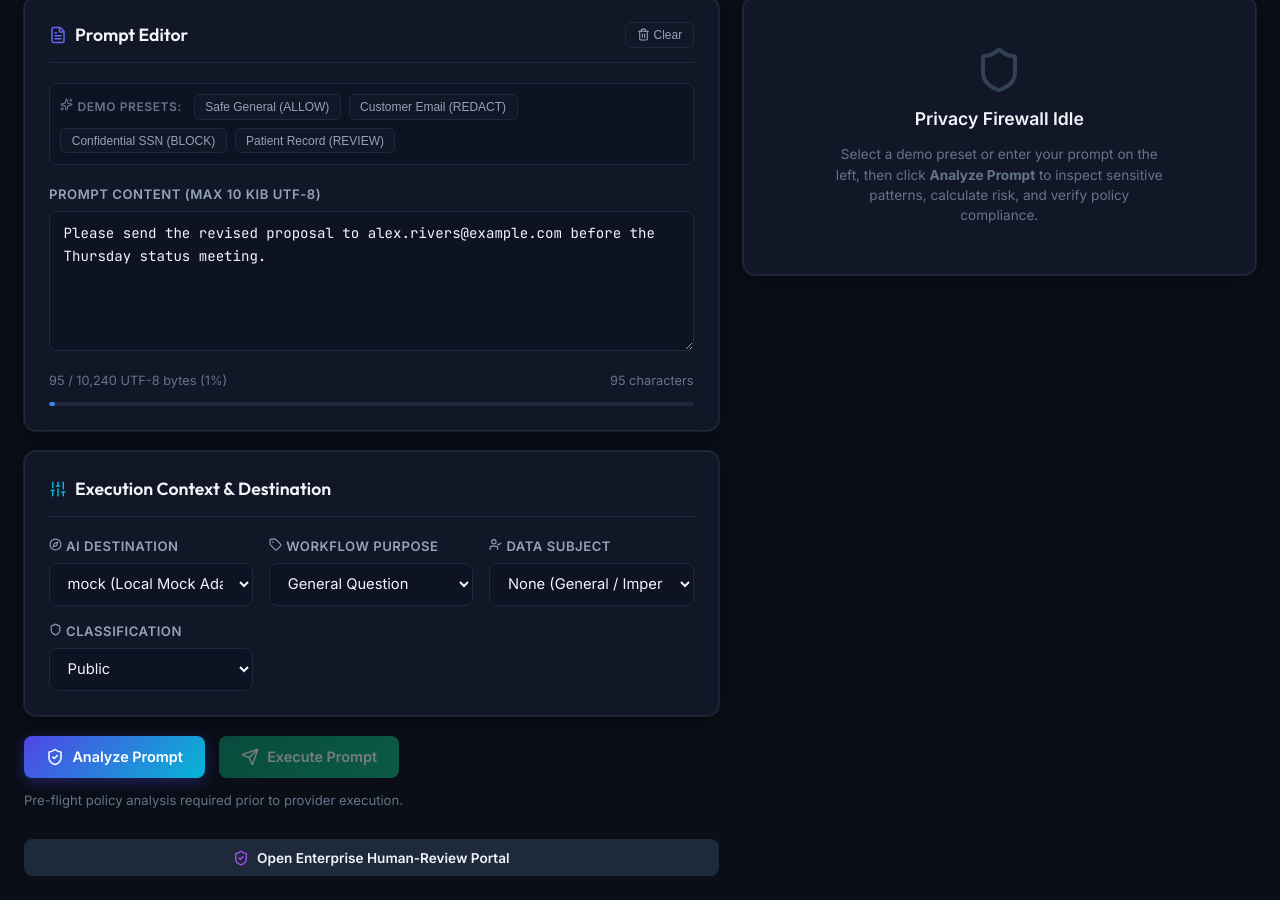
Scenario: PrivAI App Integration › invalidates analysis when prompt is edited after analysis (Anti-Bypass Invariant)
This screenshot has width=1280, height=900.
(page scrolled)
Analyze prompt
Click the button "Analyze Prompt". click: (115, 757)
box: left=24, top=736, right=205, bottom=778
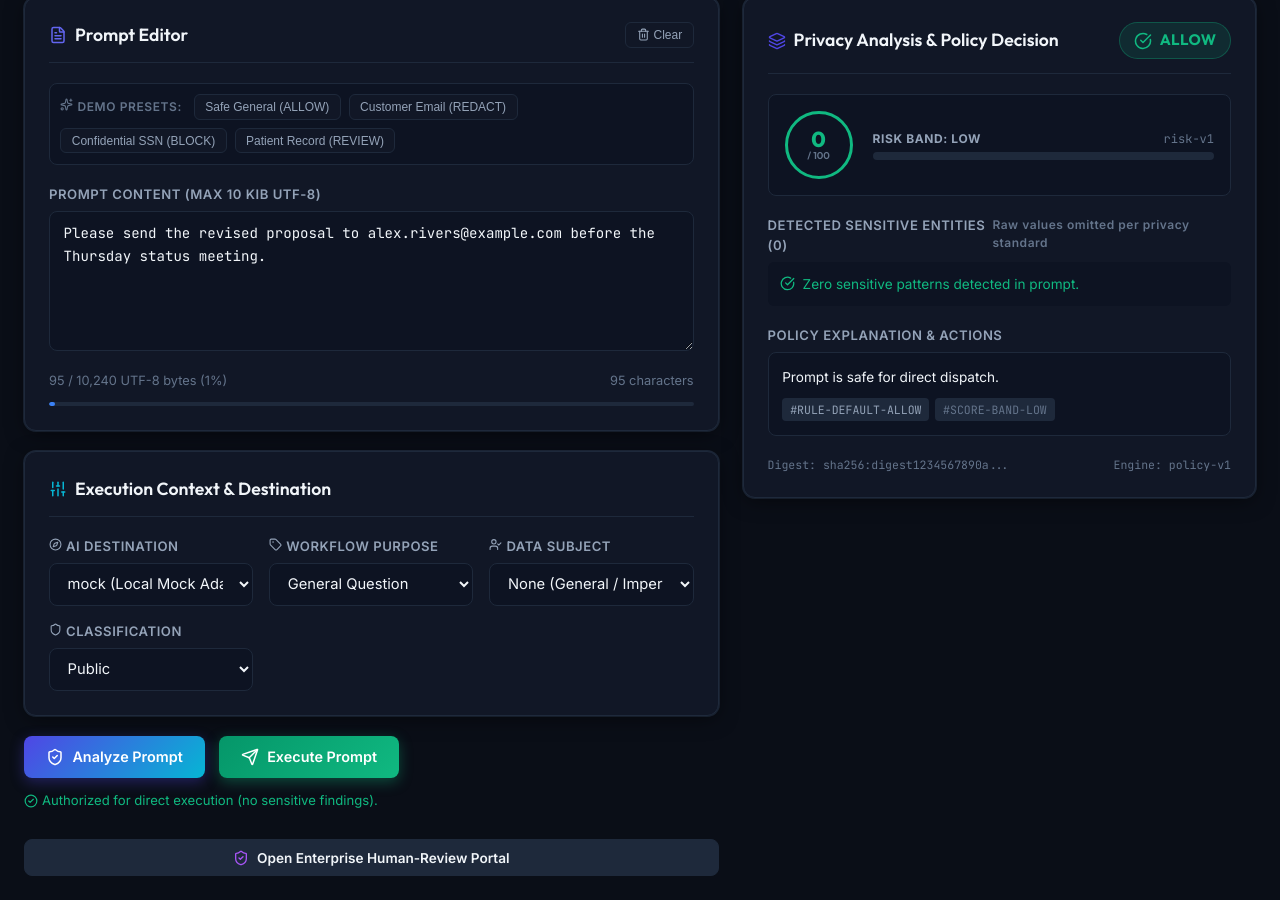
expect the text "ALLOW" is shown: met, box left=1160, top=29, right=1216, bottom=52
expect the button "Execute Prompt" is enabled: met, box left=219, top=736, right=399, bottom=778
User edits prompt content
Type " additional text" into the text box labelled "Prompt Content (Max 10 KiB UTF-8)". click: (371, 281)
box: left=49, top=211, right=694, bottom=351
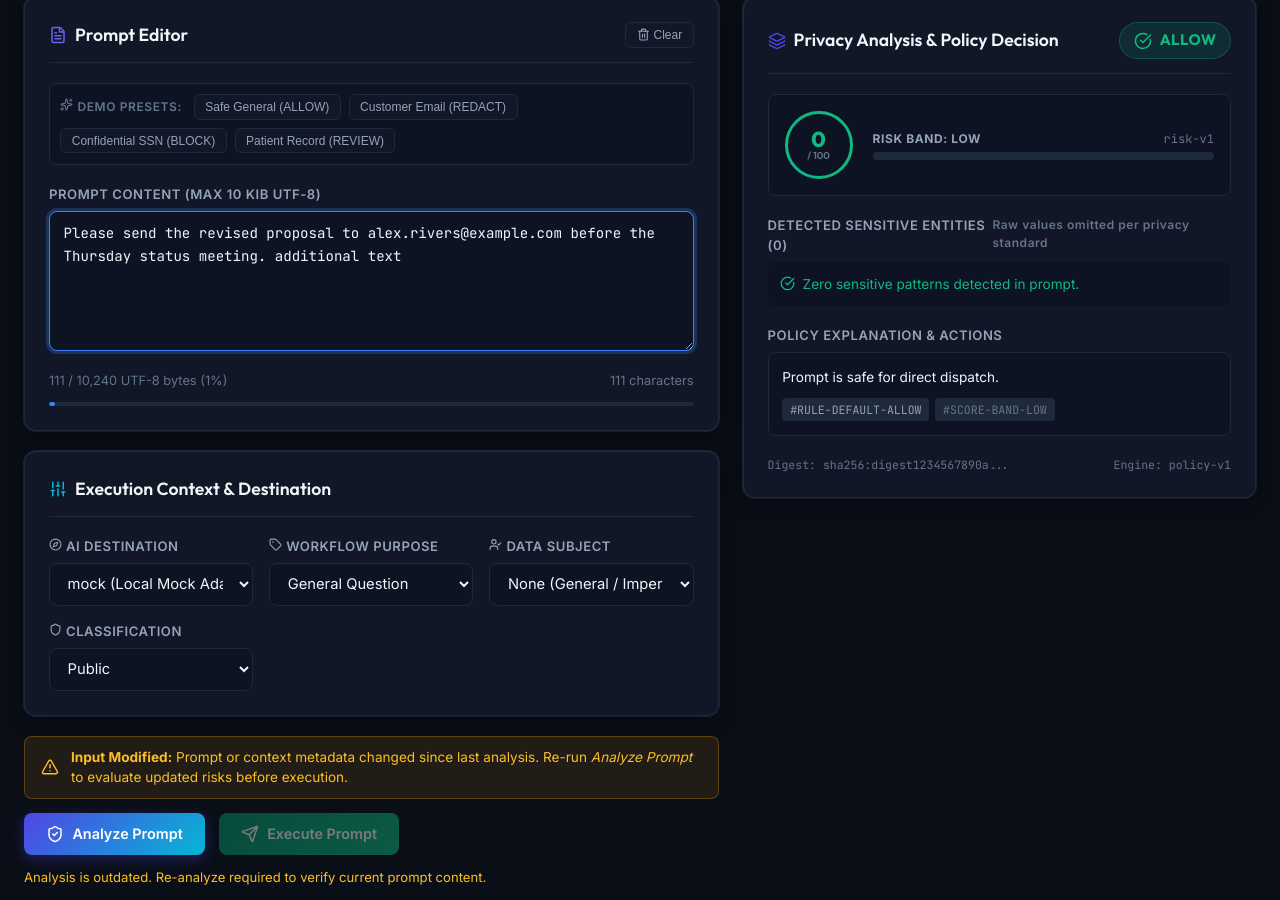
expect the message shows "Input Modified": met, box left=71, top=749, right=172, bottom=765
expect the button "Execute Prompt" is disabled: met, box left=219, top=813, right=399, bottom=855
